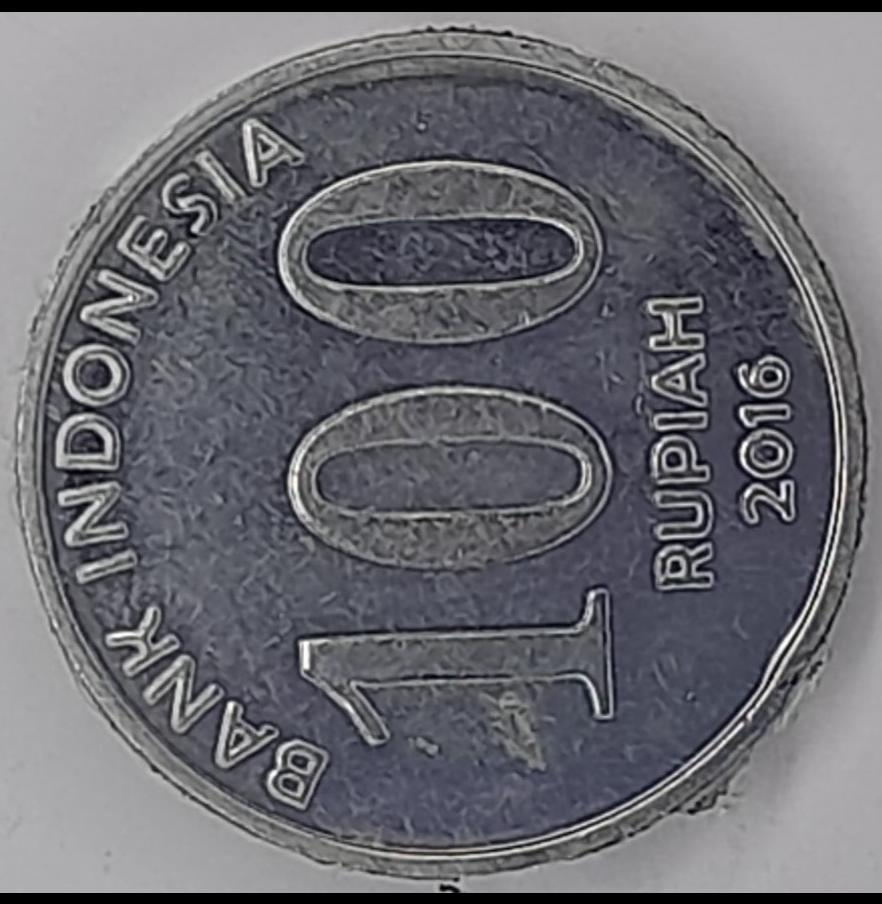coin_100_e2016: (7, 19, 874, 883)
